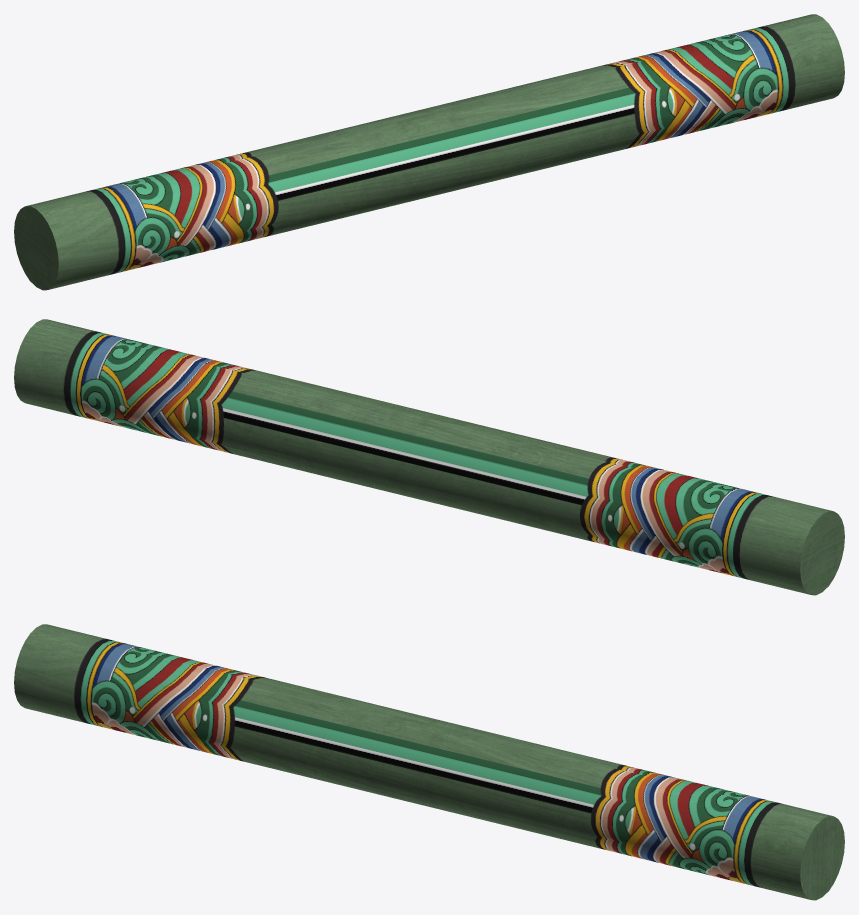
Rendered from SM_SJJ_HG_CrossBeam03E.fbx.
3 renders of one model, top to bottom at view 1: azimuth 30°, elevation 25°; view 2: azimuth 150°, elevation 25°; view 3: azimuth 330°, elevation 25°, orthographic.
Parts seen in each view (by area): view 1: SM_SJJ_HG_CrossBeam03E; view 2: SM_SJJ_HG_CrossBeam03E; view 3: SM_SJJ_HG_CrossBeam03E.
Part boxes in pixels (left/top/right/bottom): SM_SJJ_HG_CrossBeam03E: left=14, top=14, right=844, bottom=290; SM_SJJ_HG_CrossBeam03E: left=14, top=319, right=844, bottom=595; SM_SJJ_HG_CrossBeam03E: left=14, top=624, right=844, bottom=900.
Size of the model in its own units: 263 by 26.01 by 24.94.
Materials: 1 (1 with a texture image).
